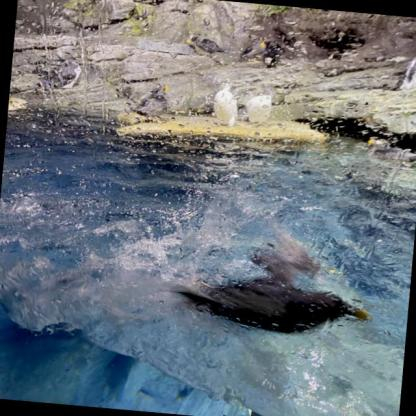puffin: (166, 221, 378, 343), (127, 80, 176, 125), (363, 134, 415, 170), (207, 79, 243, 130), (394, 24, 416, 96), (42, 56, 85, 92), (243, 35, 284, 72), (242, 90, 275, 129), (183, 32, 226, 61)
